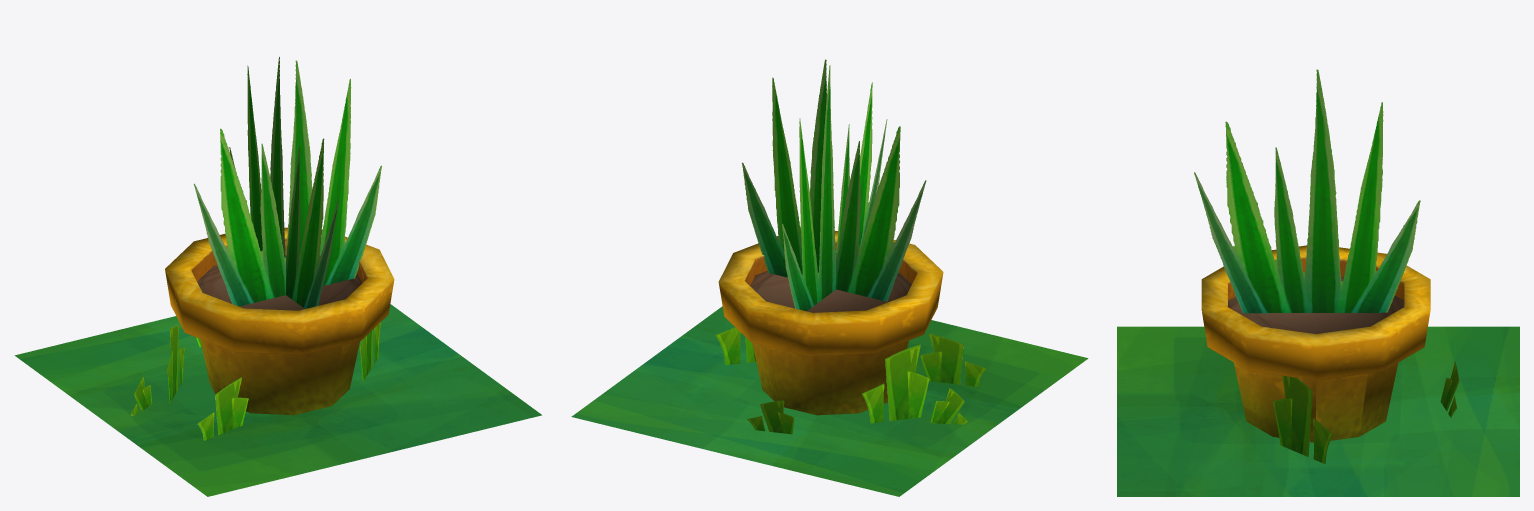
File: aloevera4.obj
The picture shows the model from 3 angles, left to right: view 1: azimuth 30°, elevation 25°; view 2: azimuth 150°, elevation 25°; view 3: azimuth 270°, elevation 25°; orthographic projection. The views are drawn at different scales.
Visible parts, largest first — view 1: Stylizedplants_model.002; view 2: Stylizedplants_model.002; view 3: Stylizedplants_model.002.
Part boxes in pixels (bbox=[...]): Stylizedplants_model.002: bbox=[14, 57, 541, 496]; Stylizedplants_model.002: bbox=[571, 59, 1088, 496]; Stylizedplants_model.002: bbox=[1117, 69, 1519, 496].
Size of the model in its own units: 45.19 by 44.19 by 45.19.
1 material, 1 textured.
